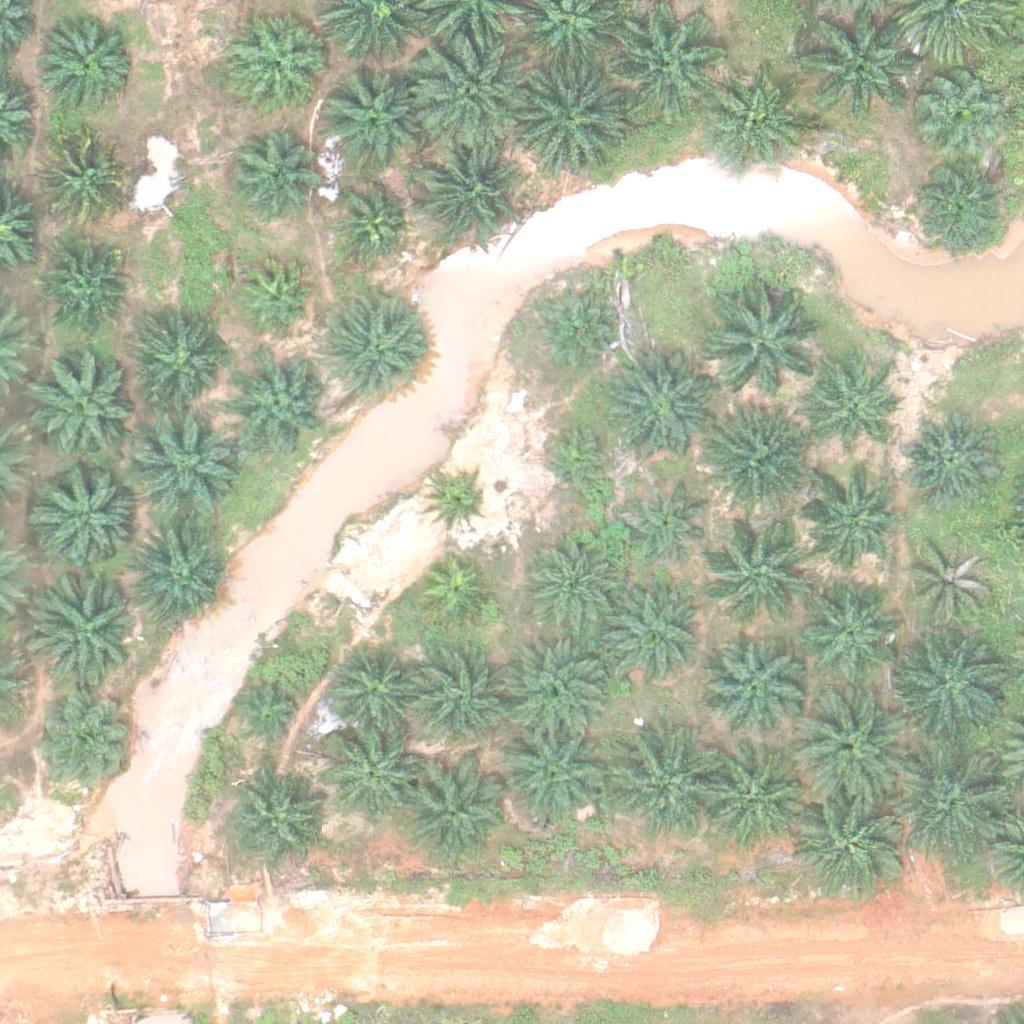Kelapa_Sawit: (510, 62, 623, 176), (794, 790, 907, 903), (707, 280, 820, 393), (601, 353, 714, 466), (499, 631, 612, 744), (496, 719, 609, 832), (398, 758, 511, 871), (127, 404, 240, 517), (28, 348, 141, 461), (32, 459, 145, 572), (706, 511, 818, 625), (604, 728, 716, 842), (899, 749, 1011, 862), (895, 628, 1007, 741), (799, 4, 911, 117), (793, 690, 905, 803), (694, 747, 806, 860), (697, 408, 809, 521), (610, 4, 722, 117), (418, 37, 530, 150), (31, 571, 143, 684), (799, 474, 899, 575), (701, 636, 801, 737), (318, 67, 418, 168), (601, 587, 701, 688), (409, 653, 509, 754), (324, 644, 424, 745), (126, 525, 226, 626), (226, 770, 326, 871), (38, 9, 138, 110), (34, 698, 134, 799), (909, 156, 1009, 256), (900, 409, 1000, 509), (799, 578, 899, 678), (706, 77, 806, 177), (416, 142, 516, 242), (326, 302, 426, 402), (524, 535, 624, 635), (319, 724, 419, 824), (229, 10, 329, 110), (232, 355, 332, 455), (913, 63, 1001, 151), (624, 481, 712, 569), (529, 289, 617, 377), (226, 127, 314, 215), (137, 322, 225, 410), (37, 133, 125, 221), (909, 540, 996, 628), (811, 370, 898, 458), (40, 241, 127, 329), (238, 258, 313, 334), (333, 184, 408, 259), (541, 420, 616, 495), (417, 558, 492, 633), (232, 682, 307, 757), (426, 471, 489, 534)
